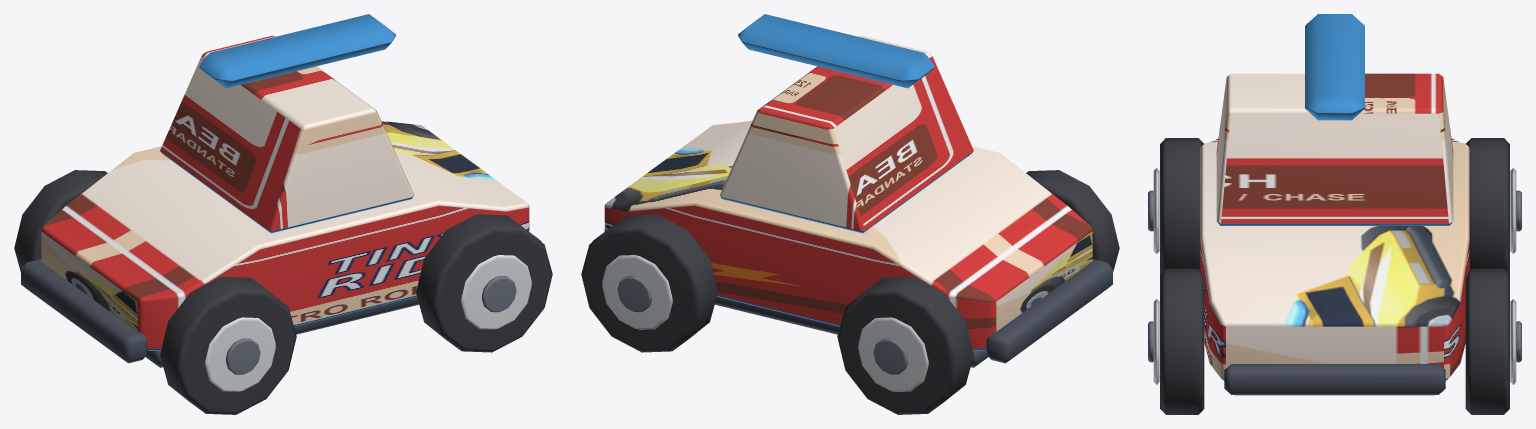
3 views of the same model, side by side, from view 1: azimuth 30°, elevation 25°; view 2: azimuth 150°, elevation 25°; view 3: azimuth 270°, elevation 25° (orthographic). The views are drawn at different scales.
Parts seen in each view (by area): view 1: RR-03_connected_shell, RR-03_cabin, Tire.002, Tire, beach surfboard, front bumper, Rim.002, Rim, Tire.001, underbody, Hub, Hub.002; view 2: RR-03_connected_shell, RR-03_cabin, Tire.003, Tire.001, beach surfboard, front bumper, Rim.003, Rim.001, Tire, underbody, Hub.001, Hub.003; view 3: RR-03_connected_shell, RR-03_cabin, rear bumper, Tire.002, Tire.003, beach surfboard, Tire, Tire.001, Rim, Rim.001, Rim.002, Rim.003.
Boxes of the visible parts, x1,y1,x2,y2 form: RR-03_connected_shell: (41,120,529,350); RR-03_cabin: (160,35,413,233); Tire.002: (416,214,552,352); Tire: (160,276,296,414); beach surfboard: (199,14,395,88); front bumper: (21,259,147,363); Rim.002: (461,255,531,329); Rim: (205,317,275,391); Tire.001: (14,170,107,271); underbody: (145,297,418,367); Hub: (226,338,260,374); Hub.002: (482,276,516,312); RR-03_connected_shell: (604,120,1092,350); RR-03_cabin: (720,35,973,233); Tire.003: (581,214,717,352); Tire.001: (837,276,973,414); beach surfboard: (738,14,934,88); front bumper: (986,259,1112,363); Rim.003: (602,255,672,329); Rim.001: (858,317,928,391); Tire: (1026,170,1119,271); underbody: (715,297,988,367); Hub.001: (873,338,907,374); Hub.003: (617,276,651,312); RR-03_connected_shell: (1200,138,1469,380); RR-03_cabin: (1216,73,1453,225); rear bumper: (1224,364,1445,394); Tire.002: (1160,268,1204,414); Tire.003: (1465,268,1509,414); beach surfboard: (1305,14,1364,120); Tire: (1160,138,1203,274); Tire.001: (1466,138,1509,274); Rim: (1153,168,1159,253); Rim.001: (1510,168,1516,253); Rim.002: (1153,299,1159,384); Rim.003: (1510,299,1516,384).
Bounding box in the file's own units: 298 × 191 × 219.
